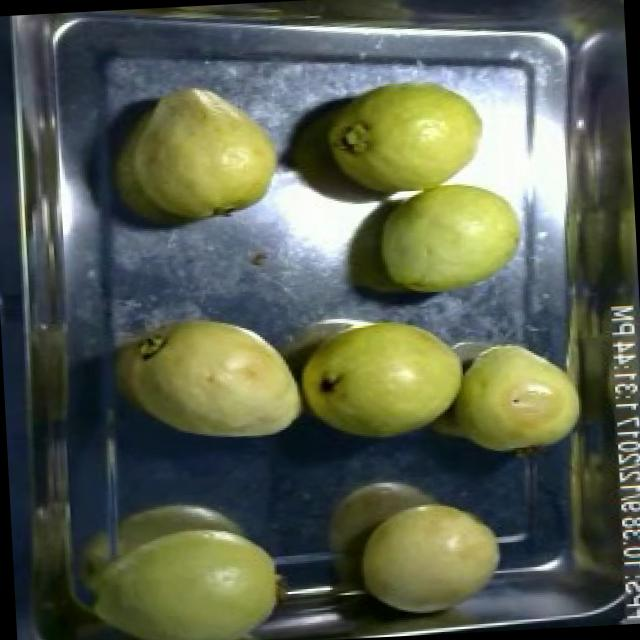Fruit: (272, 55, 500, 224), (93, 66, 298, 246), (100, 294, 314, 454), (67, 504, 295, 640), (284, 301, 476, 454), (346, 487, 514, 632), (358, 180, 538, 302), (440, 328, 589, 466)
